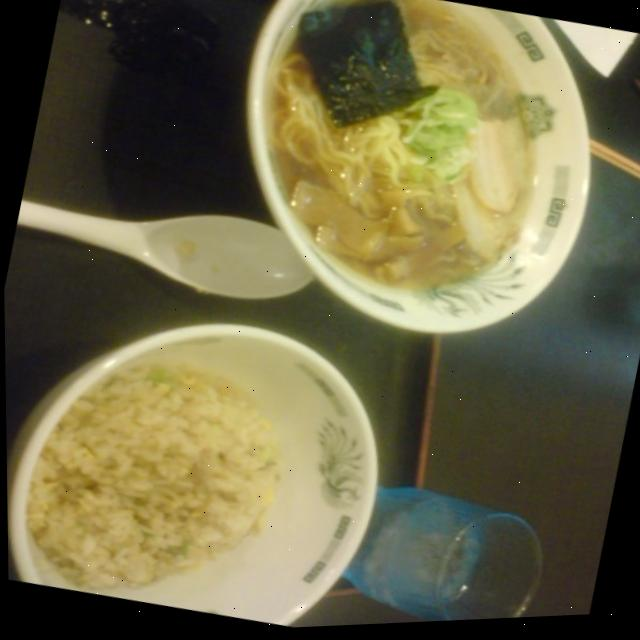米饭主食: (8, 286, 406, 640)
面条主食: (214, 0, 608, 354)
